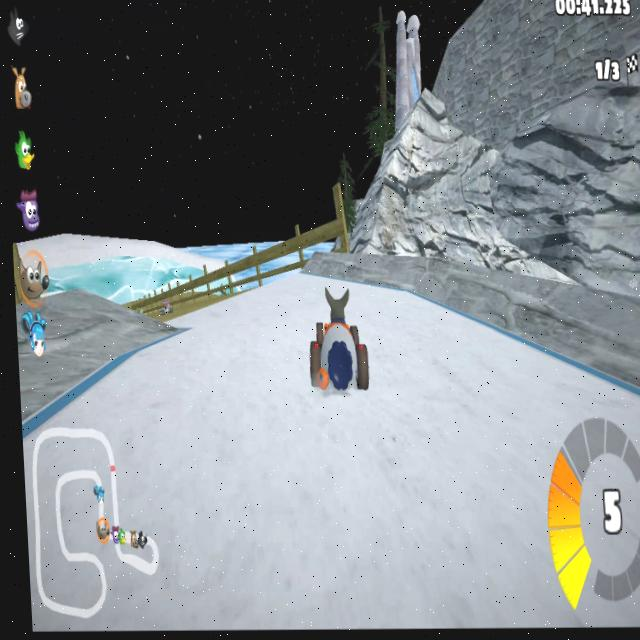obstacle: (166, 300, 177, 322)
player_kart: (301, 281, 379, 416)
